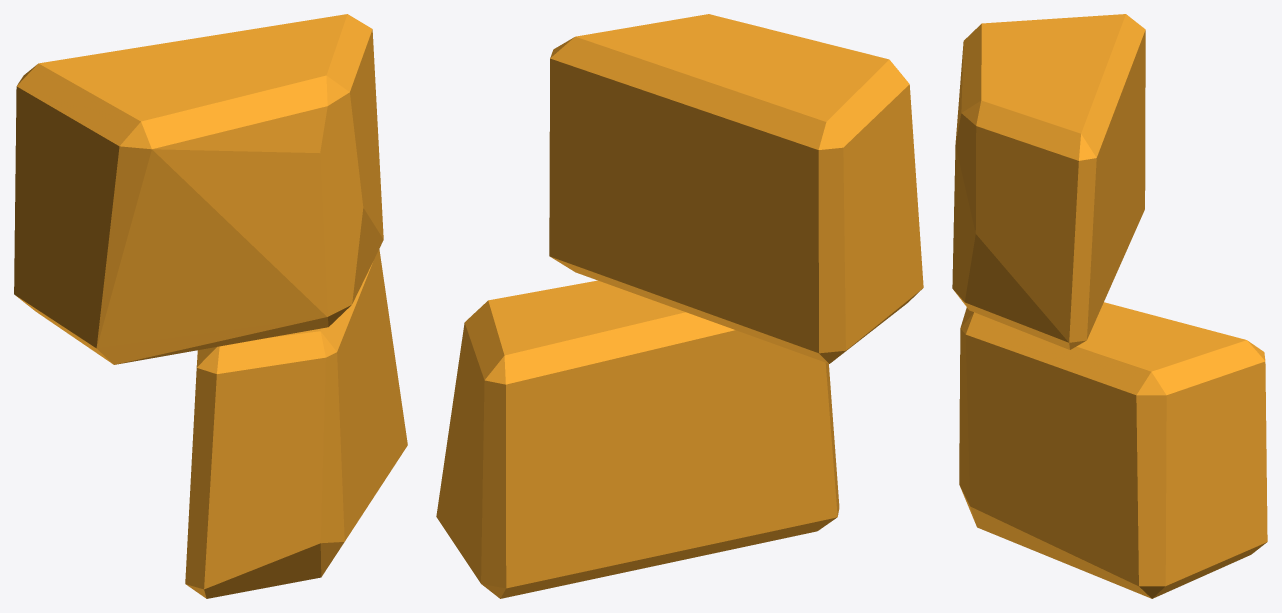
Rendered from SM_Wall_Thick_Corner_Diagonal_Out_Stone_1m_Ext_Fantasy.fbx.
The picture shows the model from 3 angles, left to right: view 1: azimuth 30°, elevation 25°; view 2: azimuth 150°, elevation 25°; view 3: azimuth 270°, elevation 25°; orthographic projection. The views are drawn at different scales.
Parts seen in each view (by area): view 1: SM_Wall_Thick_Corner_Diagonal_Out_Stone_1m_Ext_Fantasy; view 2: SM_Wall_Thick_Corner_Diagonal_Out_Stone_1m_Ext_Fantasy; view 3: SM_Wall_Thick_Corner_Diagonal_Out_Stone_1m_Ext_Fantasy.
Part boxes in pixels (x1,y1,x2,y2): SM_Wall_Thick_Corner_Diagonal_Out_Stone_1m_Ext_Fantasy: (14, 14, 407, 598); SM_Wall_Thick_Corner_Diagonal_Out_Stone_1m_Ext_Fantasy: (436, 14, 923, 598); SM_Wall_Thick_Corner_Diagonal_Out_Stone_1m_Ext_Fantasy: (952, 14, 1267, 598).
Size of the model in its own units: 0.8424 by 1.01 by 0.6673.
